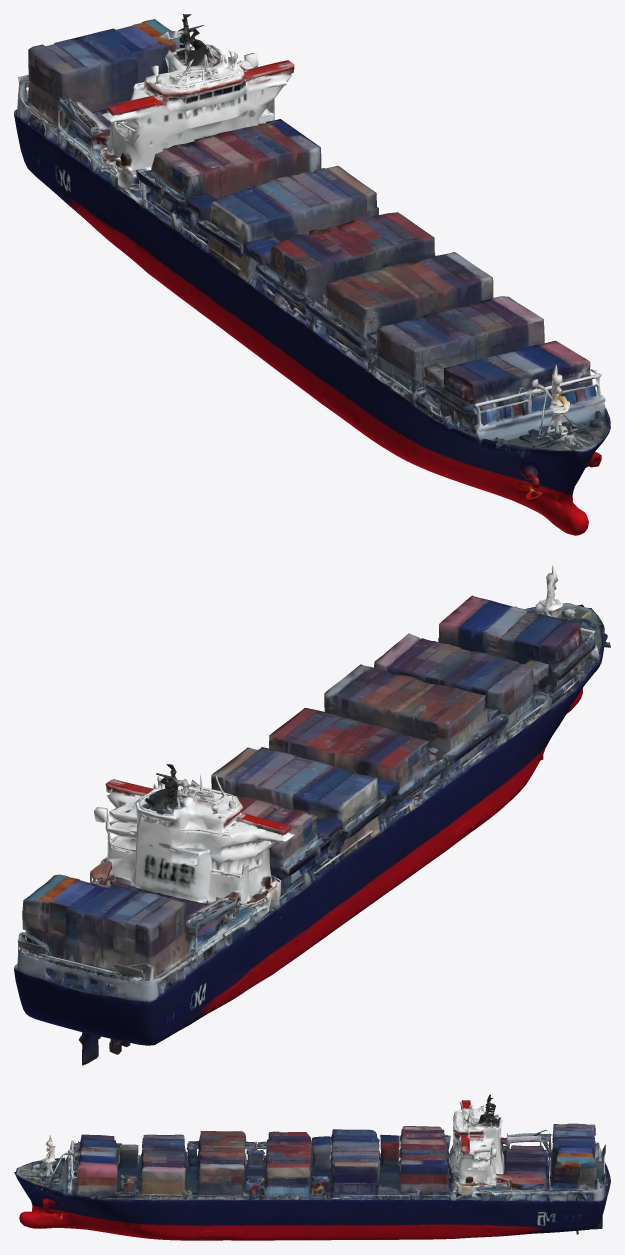
File: cargo.glb
3 renders of one model, top to bottom at view 1: azimuth 30°, elevation 25°; view 2: azimuth 150°, elevation 25°; view 3: azimuth 270°, elevation 25°, orthographic. The views are drawn at different scales.
Parts seen in each view (by area): view 1: tripo_node_3a9657d6-1fc0-42bd-8d49-3534fbb6c867; view 2: tripo_node_3a9657d6-1fc0-42bd-8d49-3534fbb6c867; view 3: tripo_node_3a9657d6-1fc0-42bd-8d49-3534fbb6c867.
Part boxes in pixels (x1,y1,x2,y2): tripo_node_3a9657d6-1fc0-42bd-8d49-3534fbb6c867: (14, 14, 610, 535); tripo_node_3a9657d6-1fc0-42bd-8d49-3534fbb6c867: (14, 564, 610, 1065); tripo_node_3a9657d6-1fc0-42bd-8d49-3534fbb6c867: (14, 1094, 610, 1240).
Size of the model in its own units: 0.2084 by 0.2526 by 1.
Materials: 1 (1 with a texture image).
